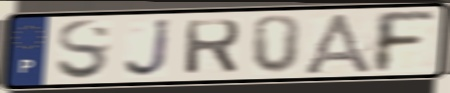0: (250, 13, 303, 77)
A: (298, 10, 377, 75)
F: (372, 9, 439, 75)
J: (122, 17, 174, 80)
R: (182, 17, 244, 76)
S: (54, 18, 113, 83)
